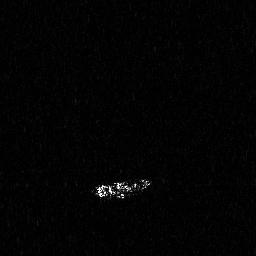ship: (89, 175, 153, 203)
